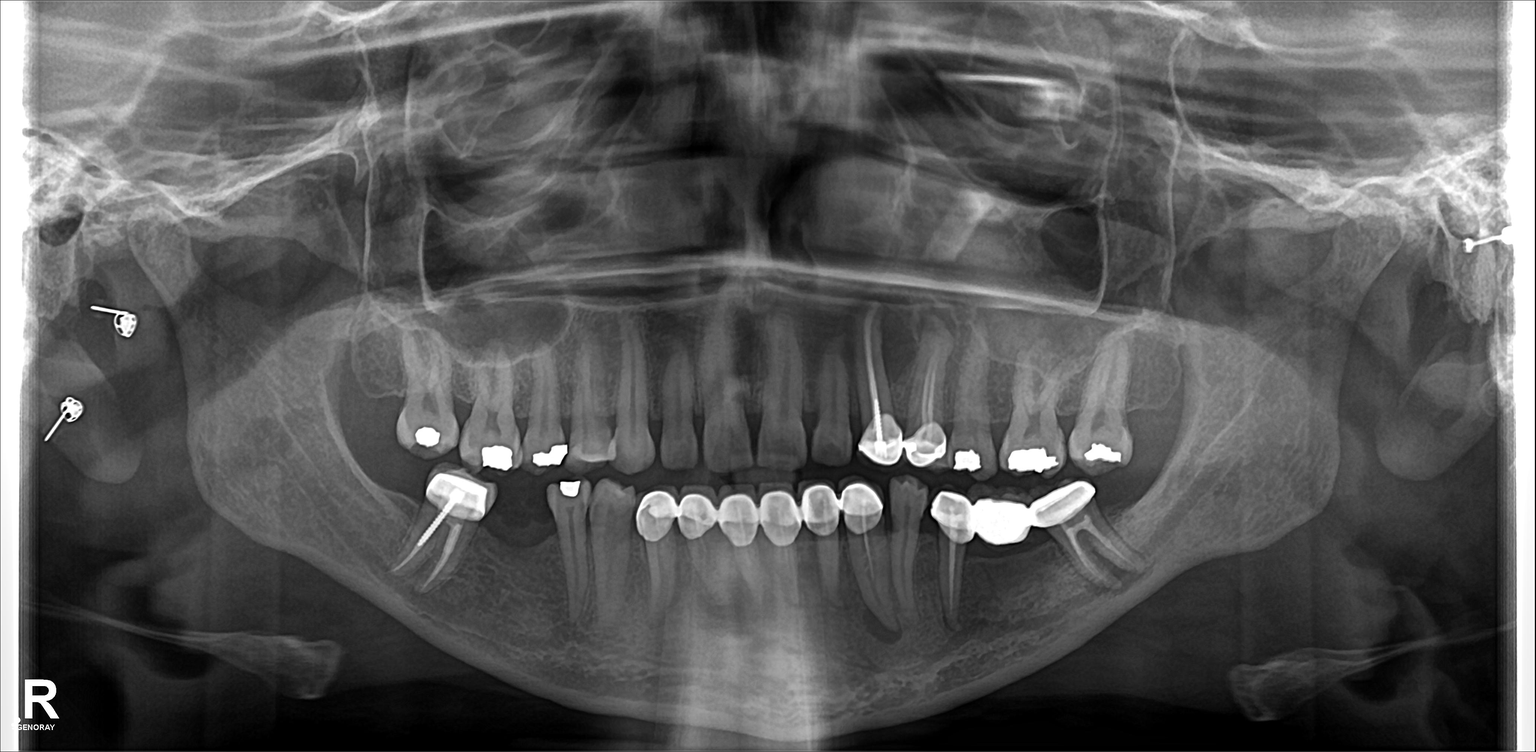Dental Caries: (1017, 411, 1052, 441)
Endodontically Treated Tooth: (855, 315, 915, 469), (410, 471, 481, 596), (840, 491, 898, 636), (1050, 488, 1117, 594), (639, 493, 681, 637), (922, 320, 956, 463), (933, 499, 968, 620)
Missing Tooth: (343, 333, 407, 436), (497, 490, 559, 596), (365, 452, 417, 551), (1130, 329, 1168, 436), (1110, 478, 1158, 548)
